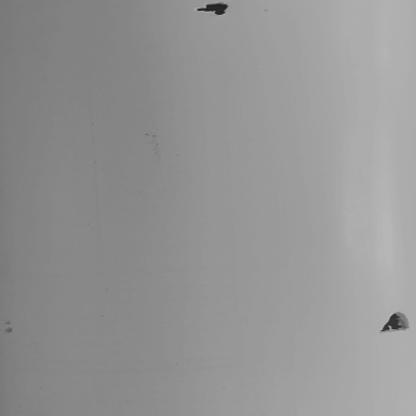kongdong: (374, 301, 414, 342), (192, 2, 242, 20)
